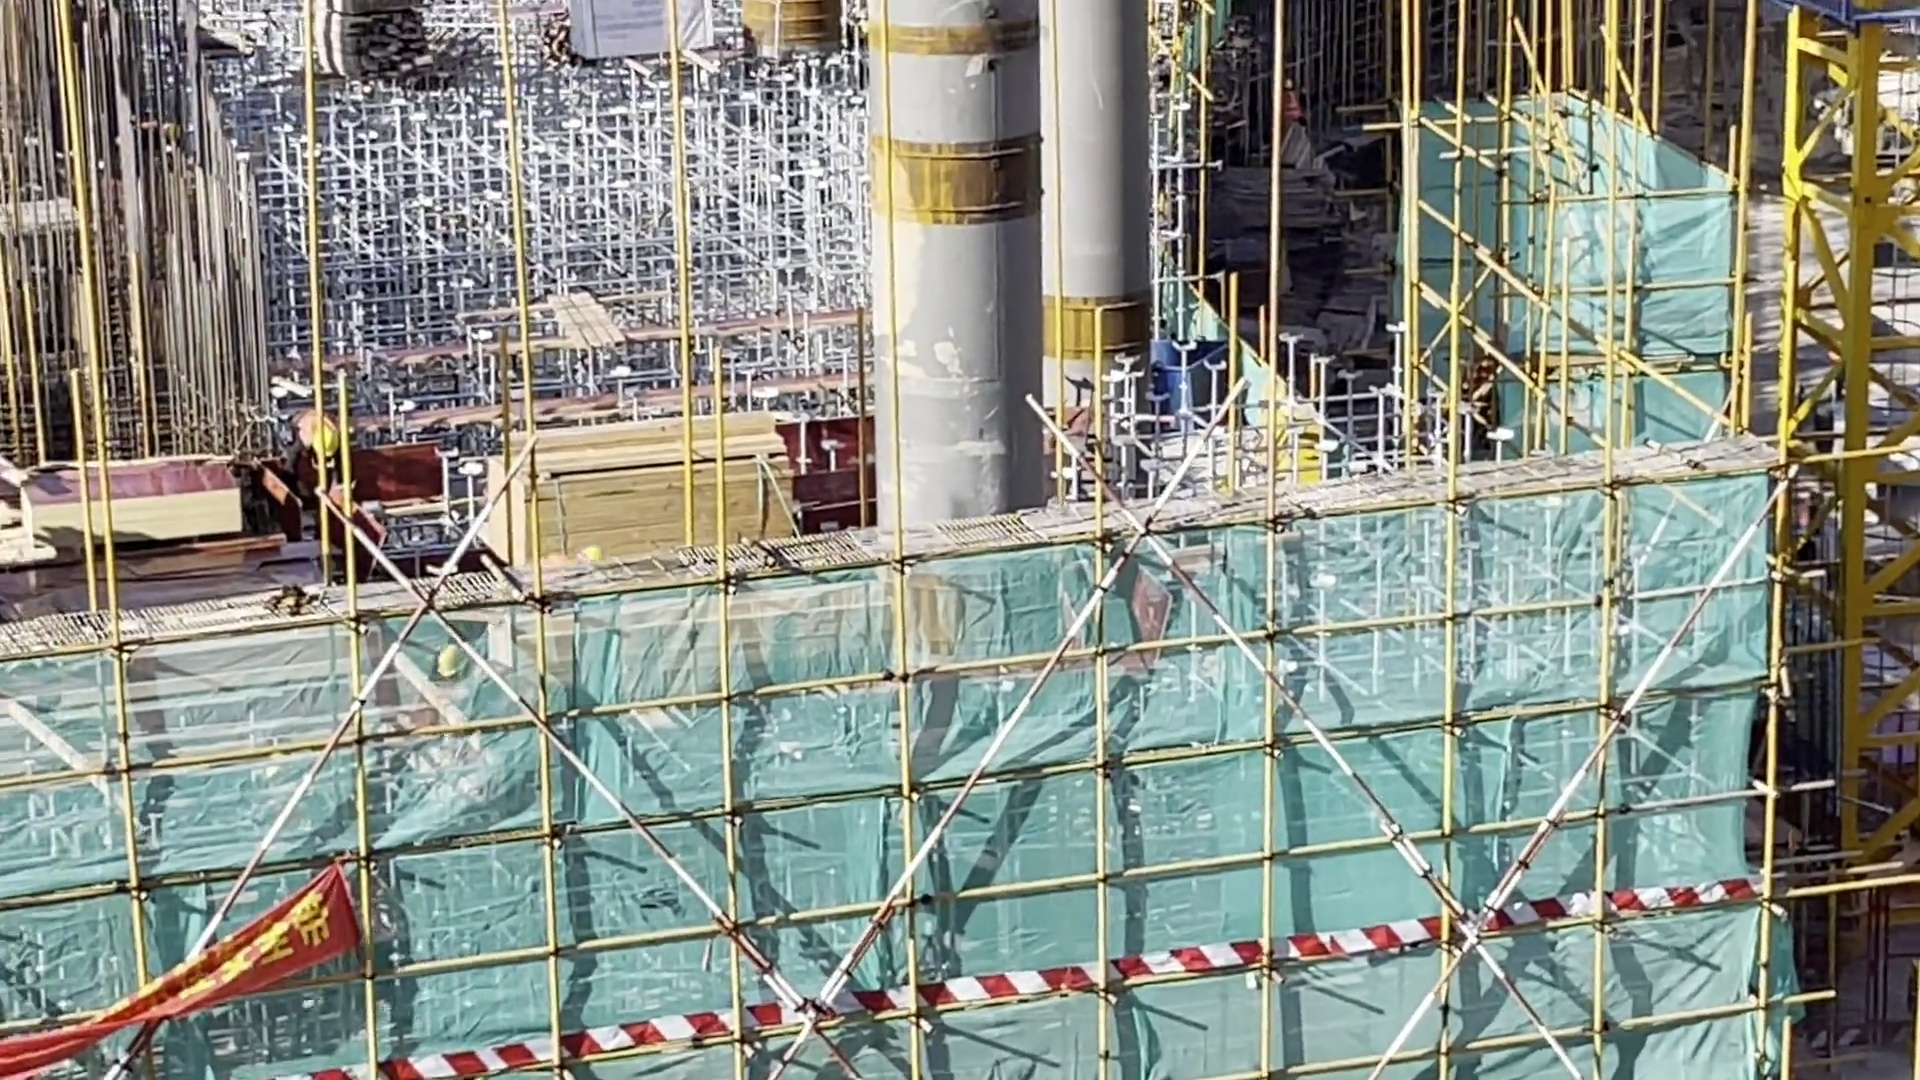slogan: (1, 827, 384, 1079)
wood: (480, 402, 811, 603)
